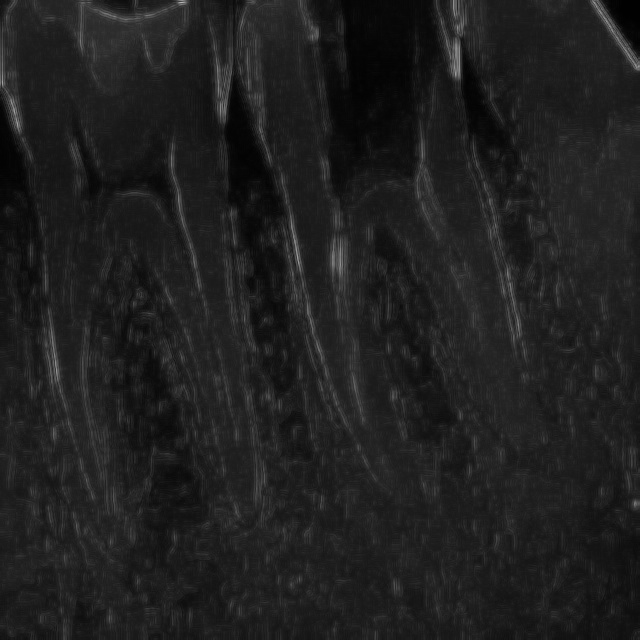Class 1- complete endodontic treatment: (262, 146, 592, 550)
cavity: (4, 90, 282, 589)
